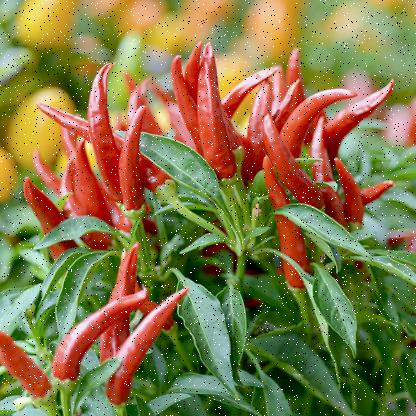chili: (106, 287, 185, 405), (255, 158, 317, 292), (256, 116, 340, 214), (95, 239, 147, 370), (191, 51, 239, 178), (116, 108, 152, 214), (330, 158, 368, 236)
